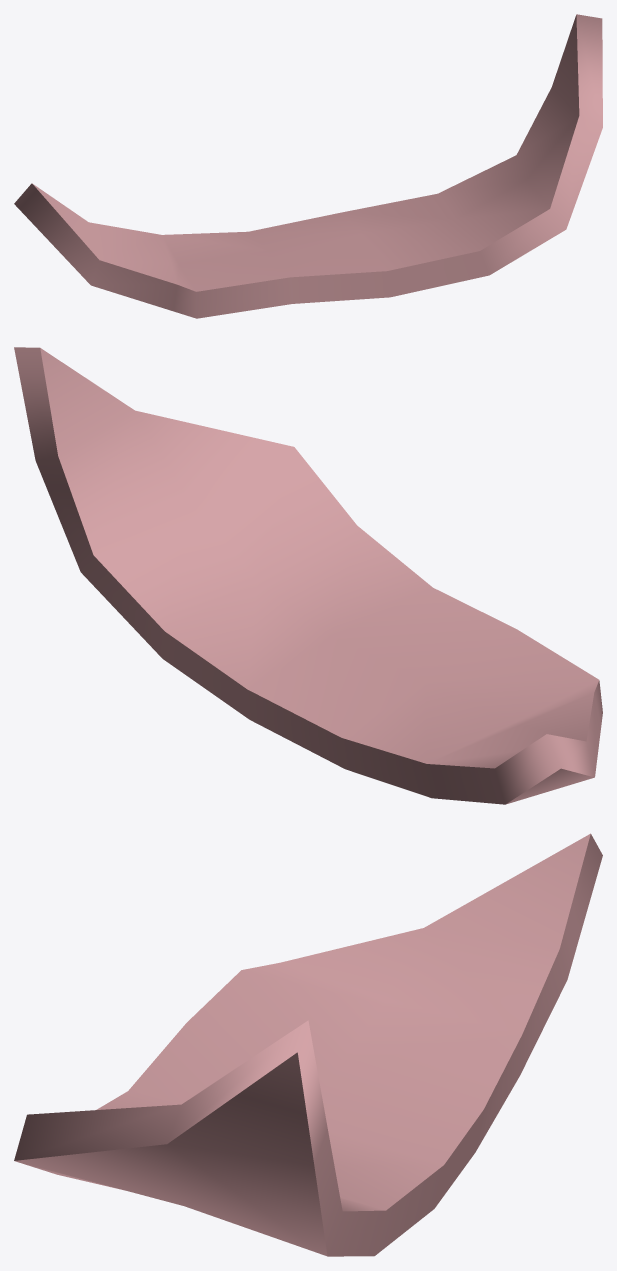
The picture shows the model from 3 angles, top to bottom: view 1: azimuth 30°, elevation 25°; view 2: azimuth 150°, elevation 25°; view 3: azimuth 270°, elevation 25°; orthographic projection. The views are drawn at different scales.
Visible parts, largest first — view 1: ZA_185ca73ea06d7ffc; view 2: ZA_185ca73ea06d7ffc; view 3: ZA_185ca73ea06d7ffc.
Boxes of the visible parts, left/top/right/bottom form: ZA_185ca73ea06d7ffc: left=14, top=14, right=602, bottom=318; ZA_185ca73ea06d7ffc: left=14, top=347, right=602, bottom=804; ZA_185ca73ea06d7ffc: left=14, top=833, right=602, bottom=1256.
Bounding box in the file's own units: 0.0611 × 0.0249 × 0.0364.
